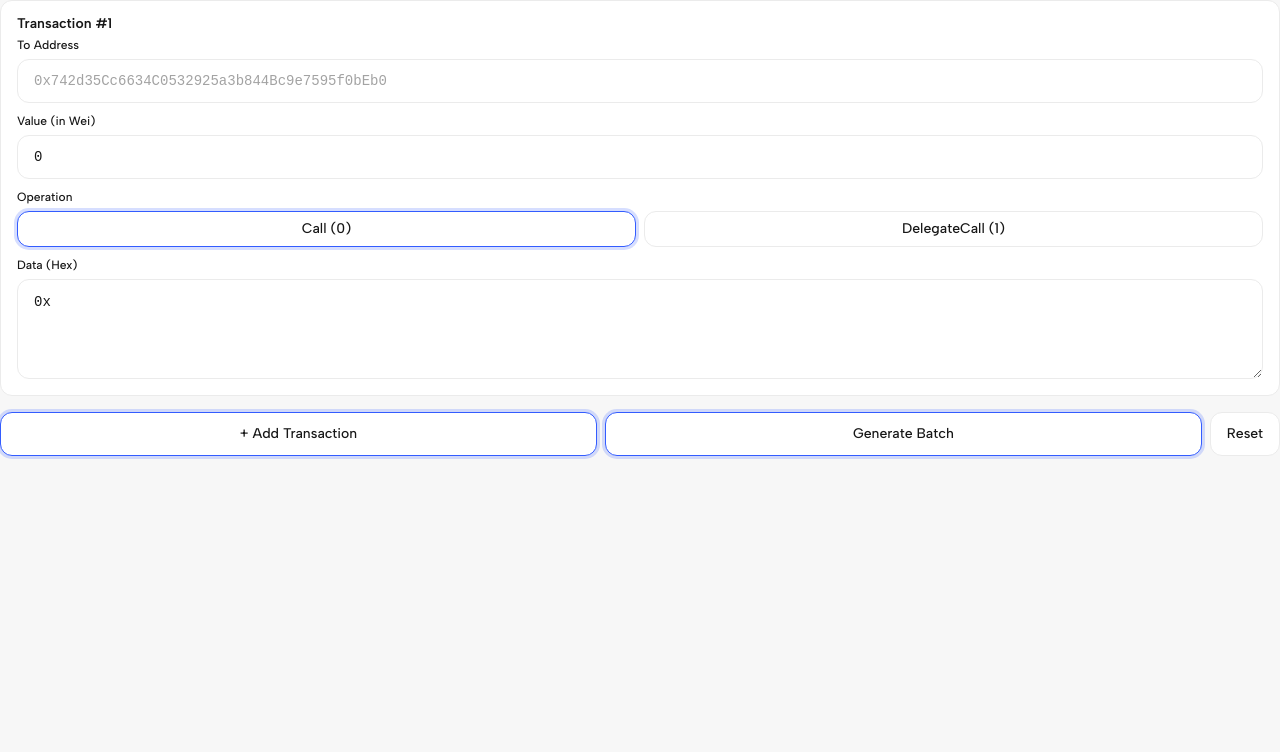
SafeBatchBuilderTool › removes transaction when remove button is clicked
This screenshot has width=1280, height=752.
Click the button "+ Add Transaction".
click(298, 434)  # box [0,412,597,456]
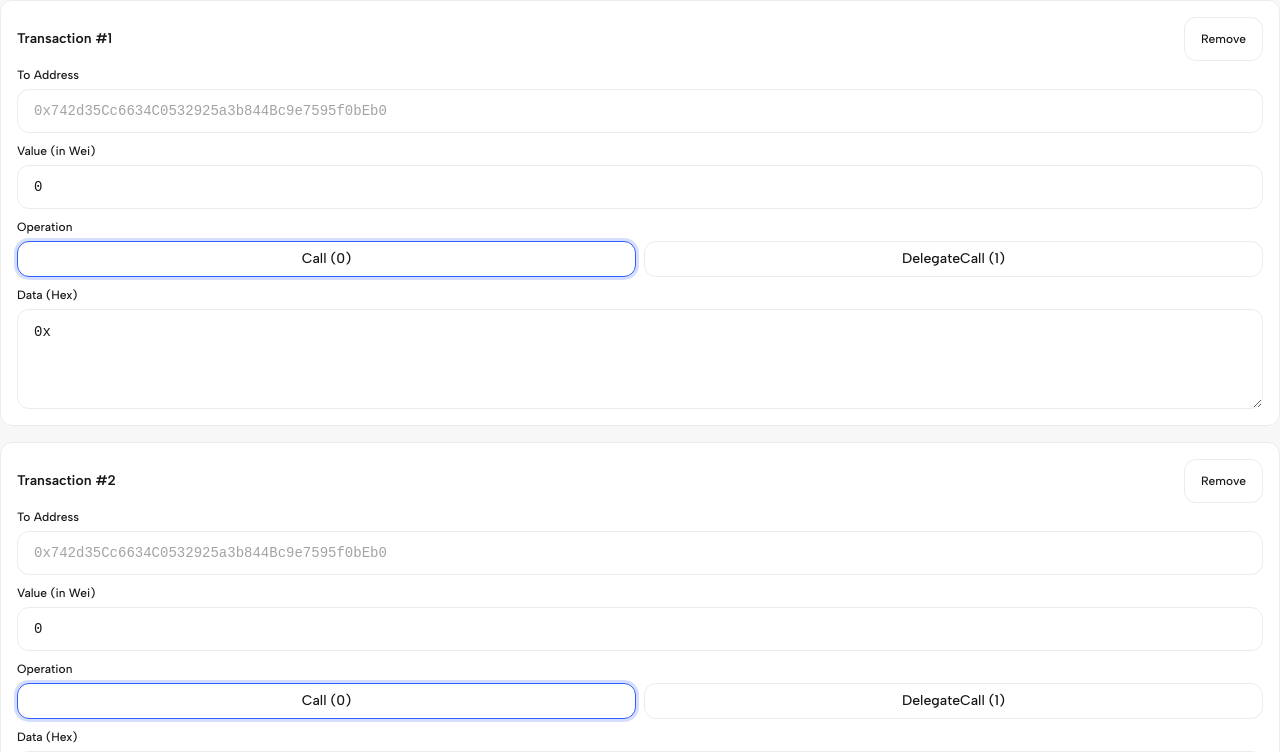
Expected: the text "Transaction #2" is shown, [17,474,116,488]
Find and click the first remove button
Click the 1st button "Remove".
click(1223, 39)  # box [1184,17,1263,61]
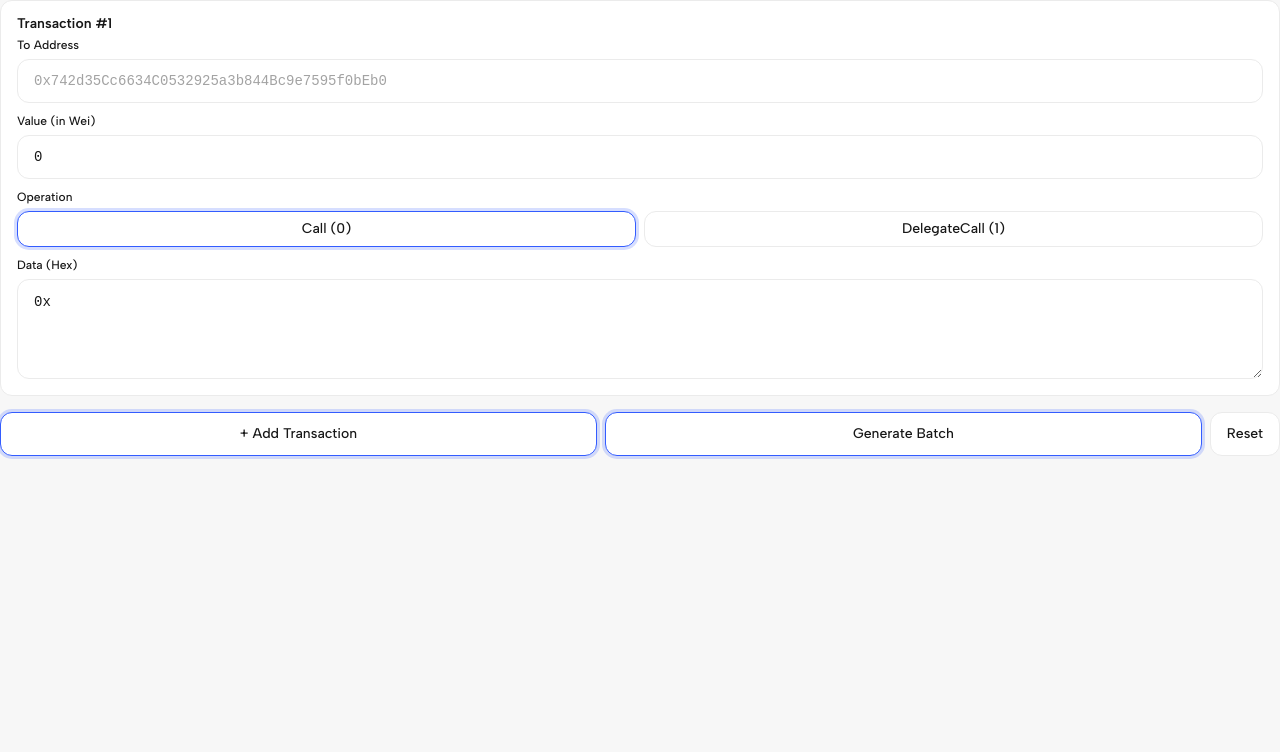
Expected: the text "Transaction #2" is gone
